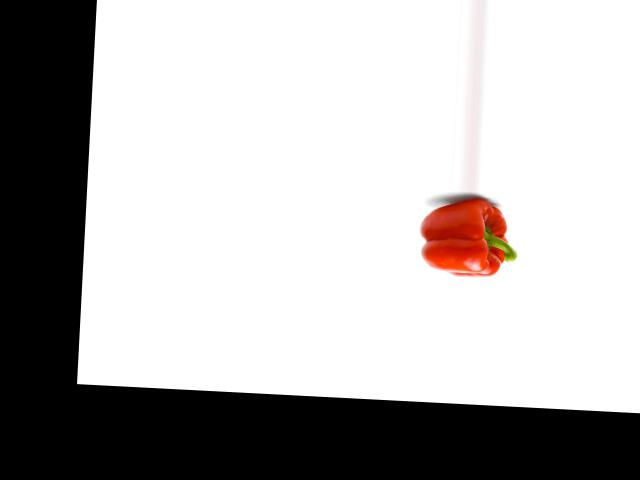bell_pepper: (409, 196, 525, 279)
